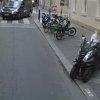Motorcycle: (69, 33, 100, 98)
